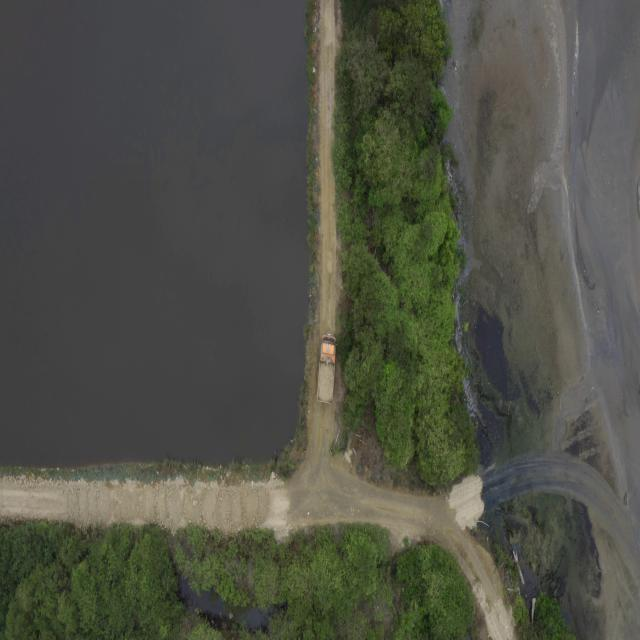vehicle: (316, 334, 336, 404)
